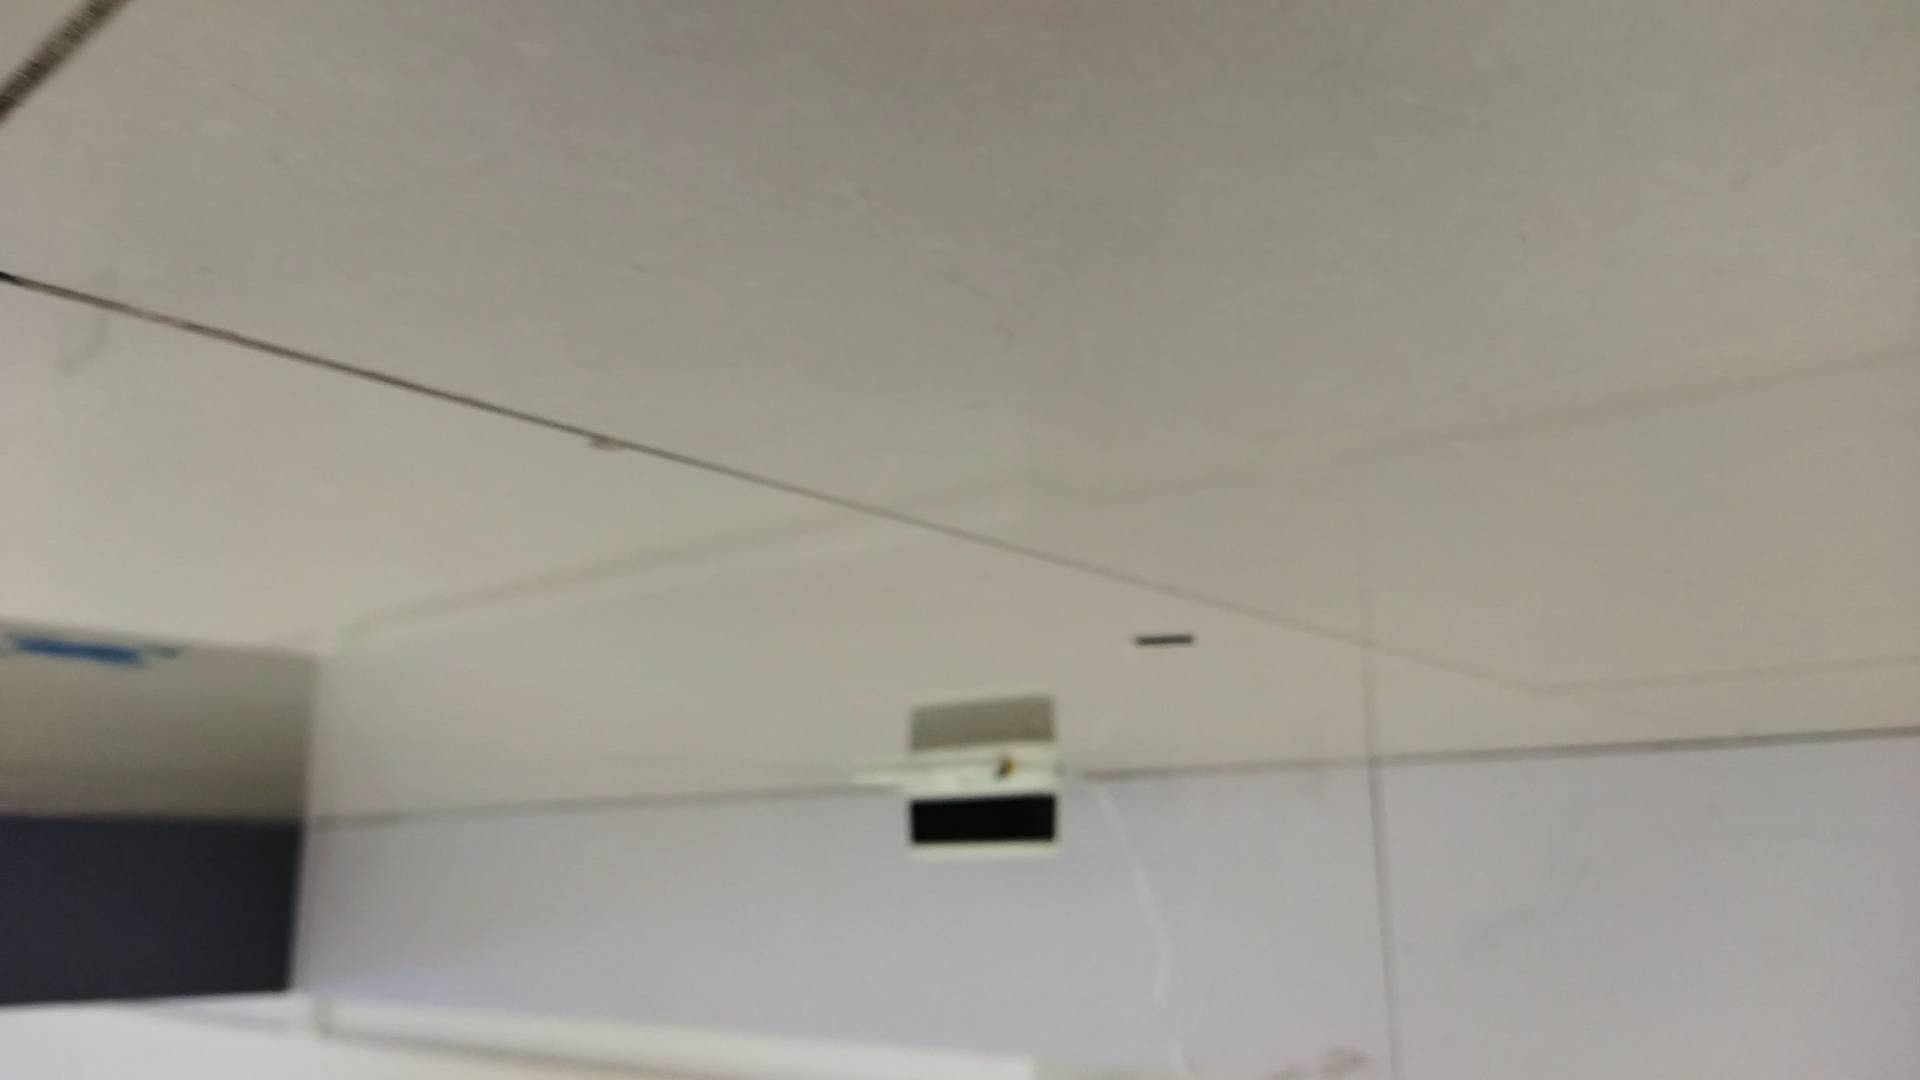recharge seat: (845, 740, 1069, 856)
